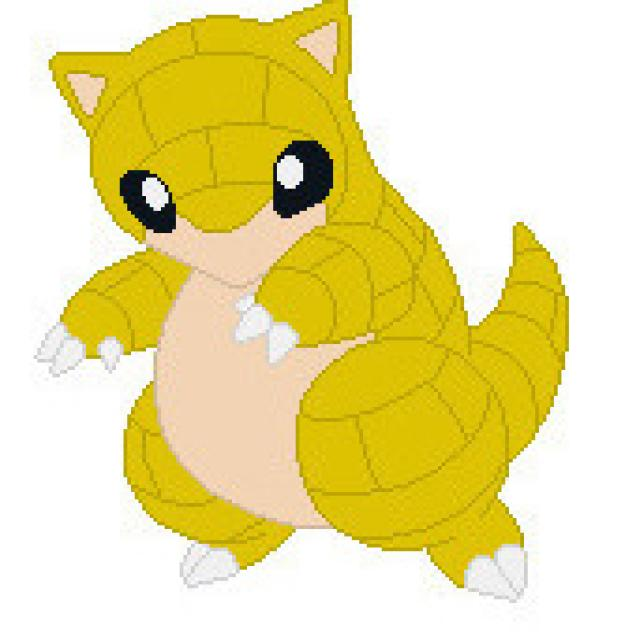Sandshrew: (51, 7, 532, 602)
